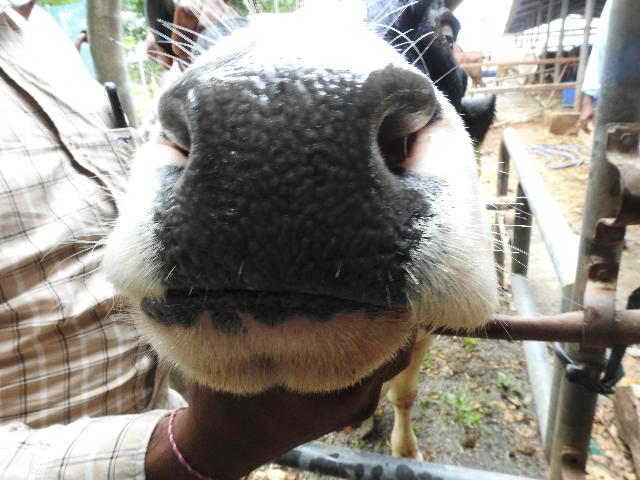Muzzle: (197, 70, 366, 290)
